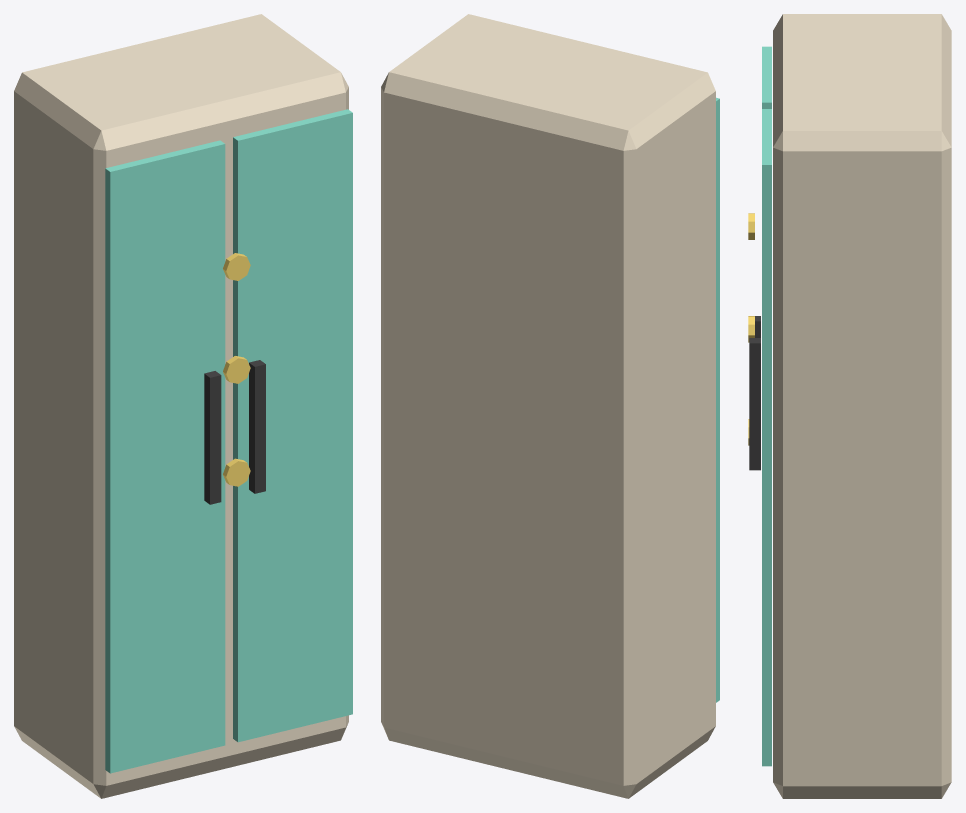
3 views of the same model, side by side, from view 1: azimuth 30°, elevation 25°; view 2: azimuth 150°, elevation 25°; view 3: azimuth 270°, elevation 25° (orthographic).
Parts seen in each view (by area): view 1: Equipment case, Door, Door.001, Handle, Handle.001; view 2: Equipment case, Door; view 3: Equipment case, Door.001, Handle.001, Door.
Boxes of the visible parts, x1,y1,x2,y2 form: Equipment case: (14,14,348,798); Door: (105,140,225,773); Door.001: (233,109,352,742); Handle: (204,371,221,504); Handle.001: (249,360,265,493); Equipment case: (381,14,715,798); Door: (716,97,719,702); Equipment case: (773,14,951,798); Door.001: (762,109,771,766); Handle.001: (749,338,760,470); Door: (762,46,771,108).
Size of the model in its own units: 52 by 130 by 35.85.
